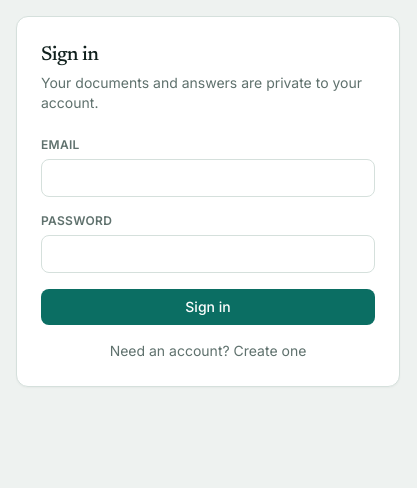
Test: AuthView › catches a too-short password before hitting the network
Expected: the heading "Sign in" is shown, [41,45,98,65]
Click the button "Need an account? Create one" at [208, 351], box [41,341,375,361]
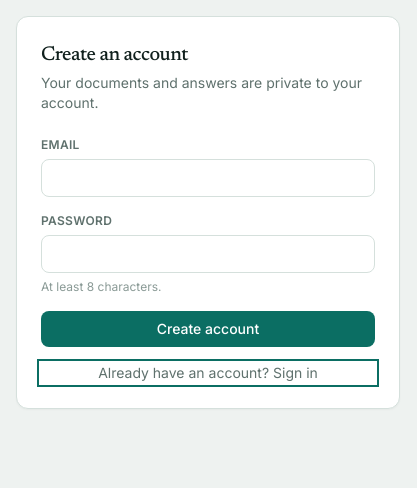
Type "ada@example.com" into the field labelled "Email" at [208, 178], box [41,159,375,197]
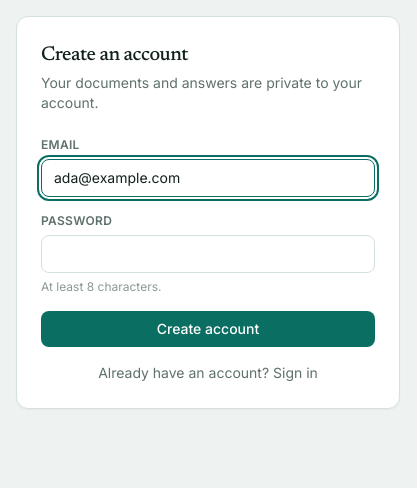
Type "short" into the password field labelled "Password" at [208, 254], box [41,235,375,273]
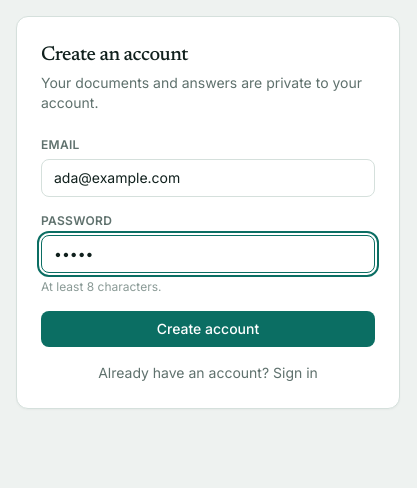
Click the button "Create account" at [208, 329], box [41,311,375,347]
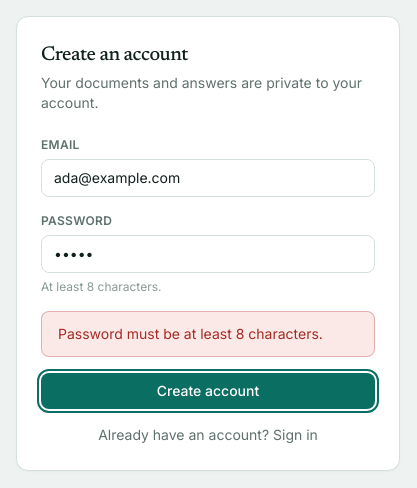
Result: the message shows "at least 8" at [58,325,323,342]
